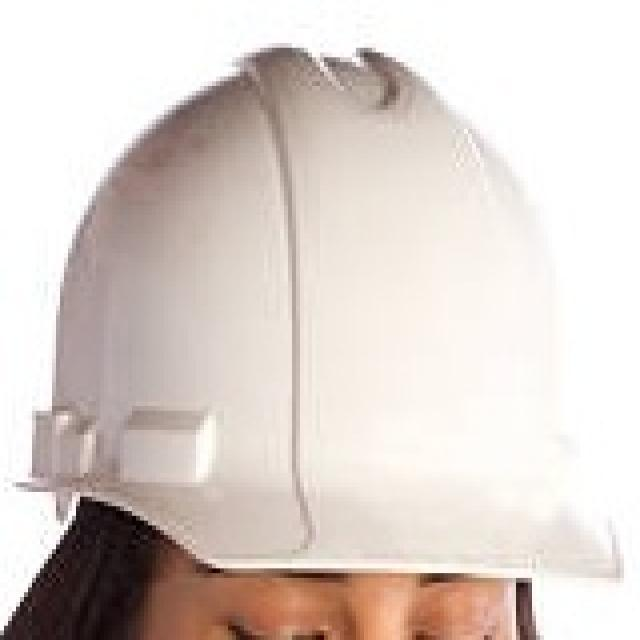helmet_white: (4, 2, 636, 638)
